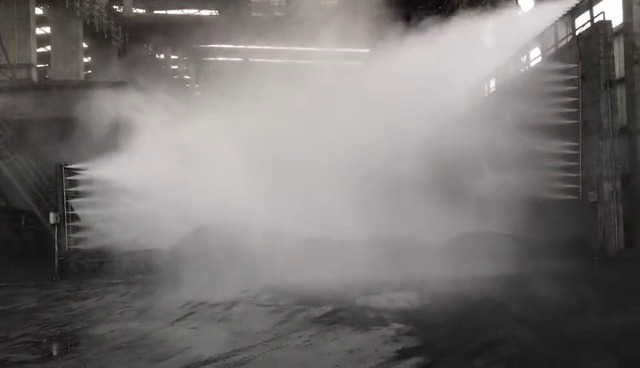dust: (95, 9, 549, 276)
